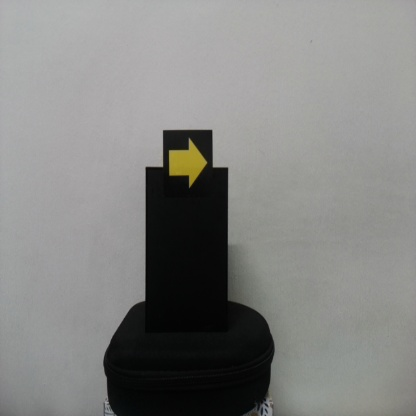id_3: (163, 131, 213, 200)
